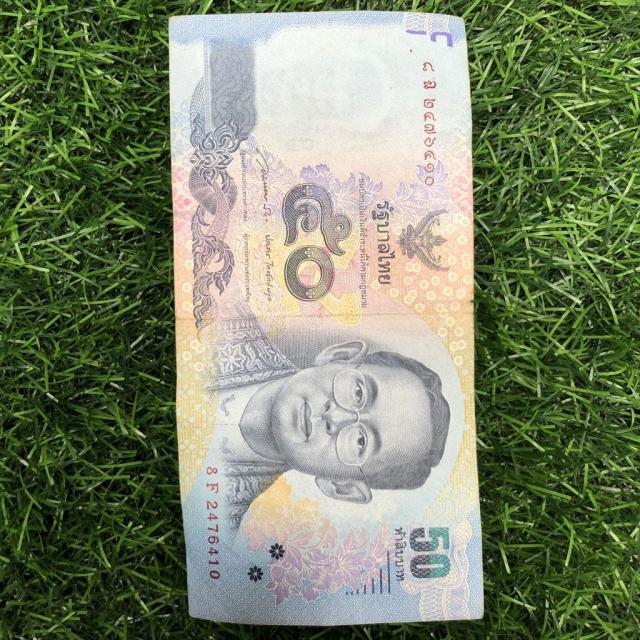THAI50: (168, 11, 486, 631)
